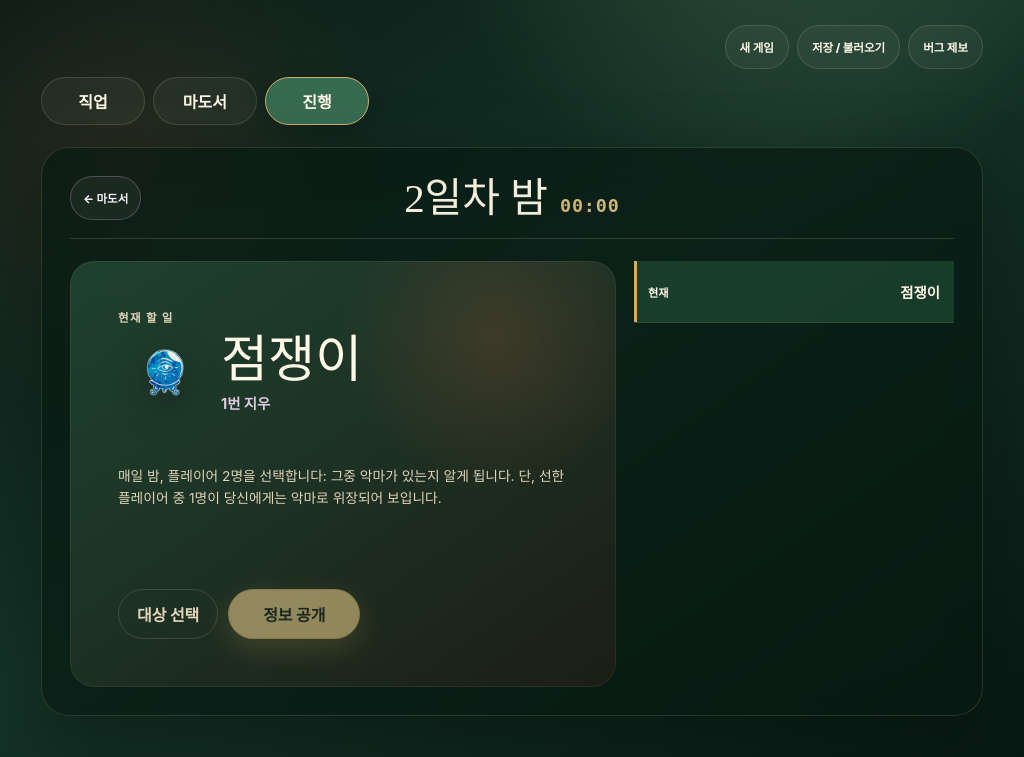
Scenario: ongoing-night production UI › does not enable confirmation when selected Players match no targetCheck
(page scrolled)
Step 1. Click the button "대상 선택" → [168, 614], box [118,589,218,639]
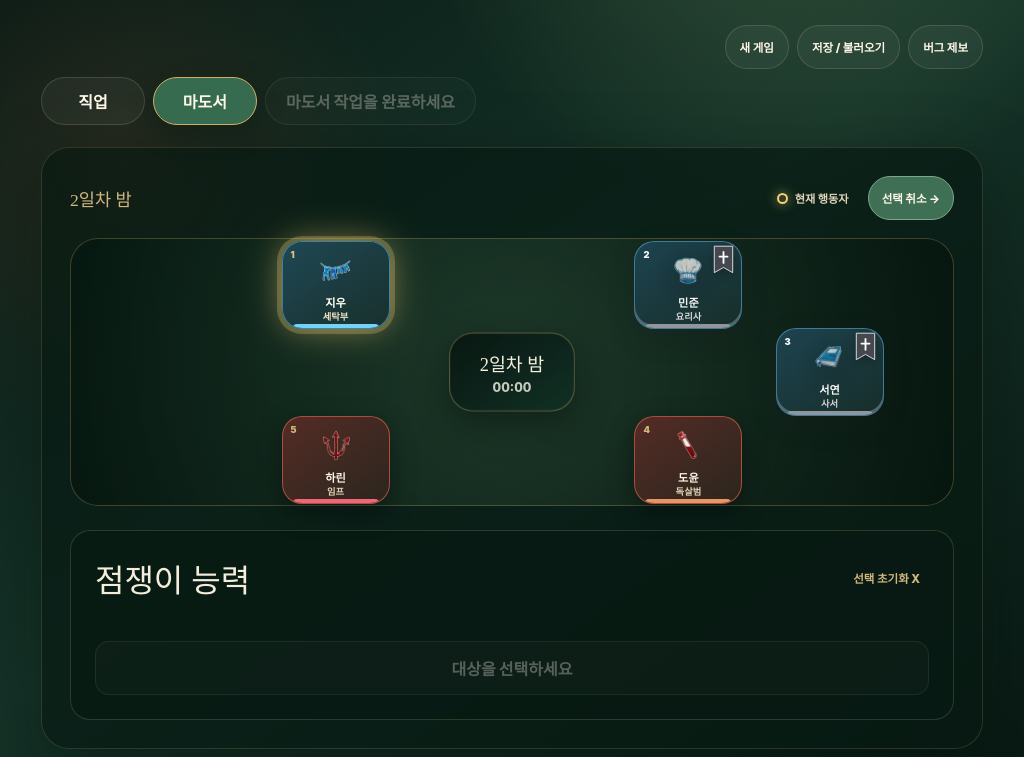
Step 2. Click the button "1 지우 세탁부" → [336, 285], box [282,241,390,329]
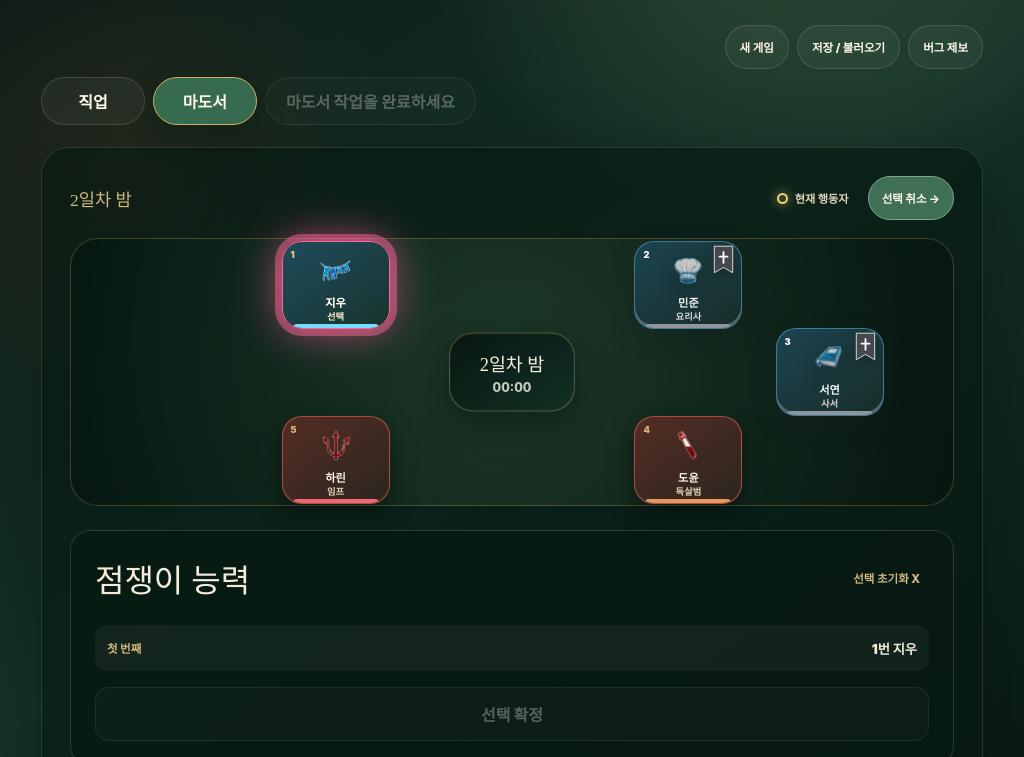
Step 3. Click the button "2 민준 요리사" → [688, 285], box [634,241,742,329]
(page scrolled)
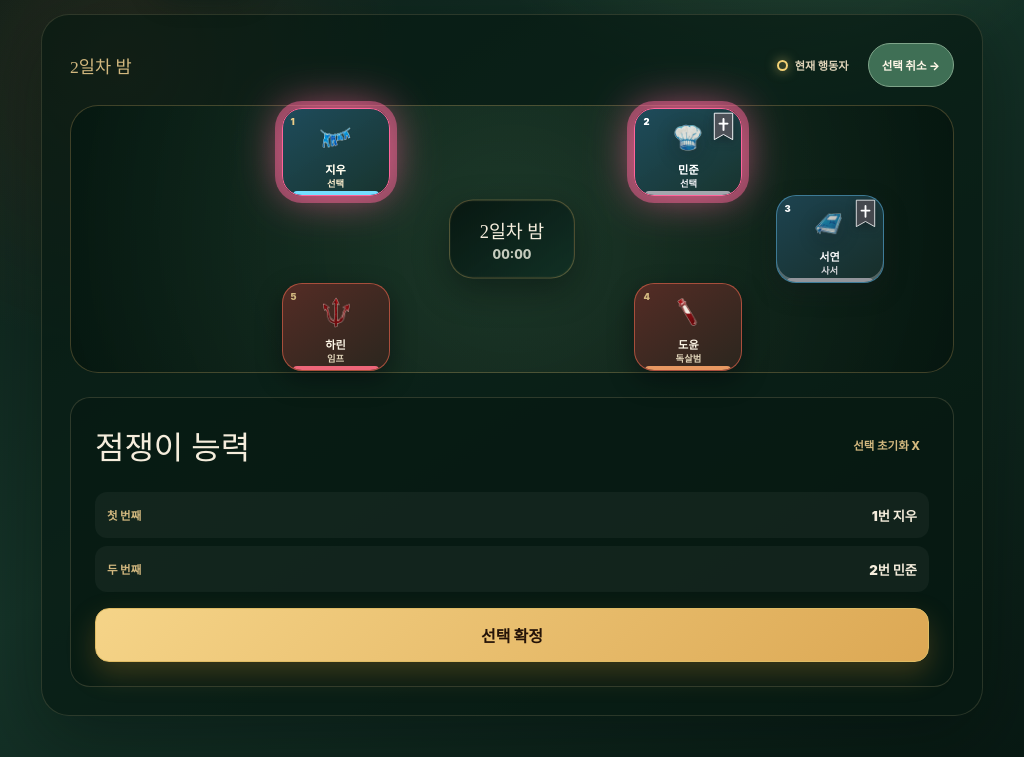
Step 4. Click the button "선택 확정" → [512, 635], box [95,608,929,662]
(page scrolled)
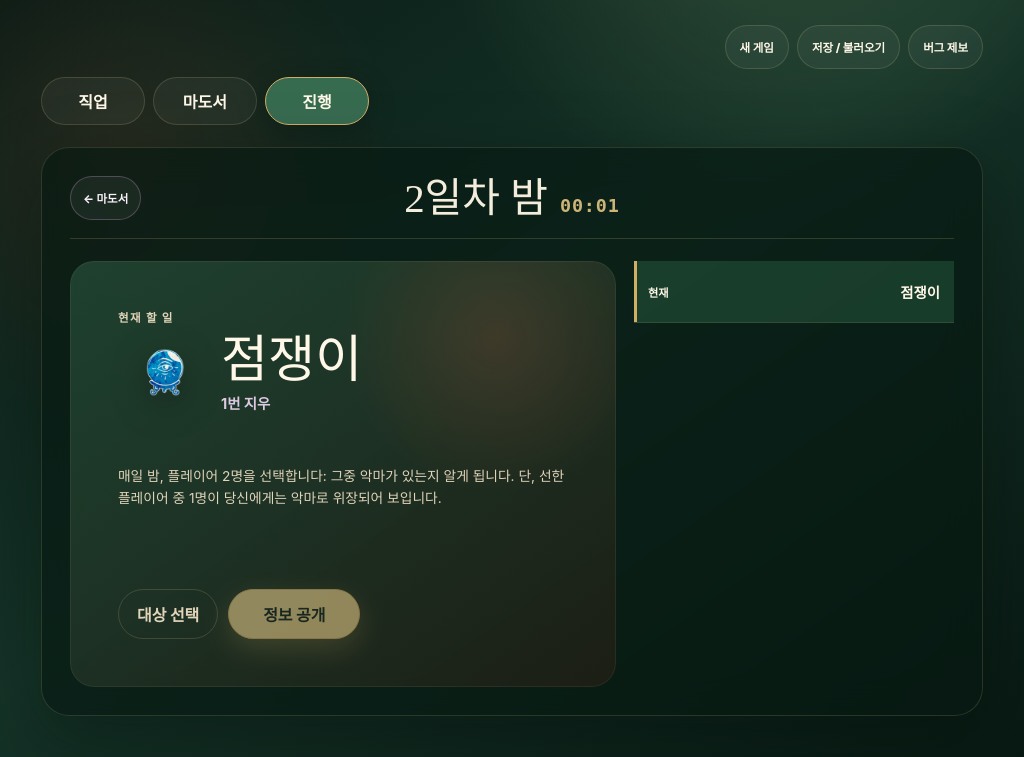
Expected: the button "정보 공개" is disabled, [228,589,360,639]
